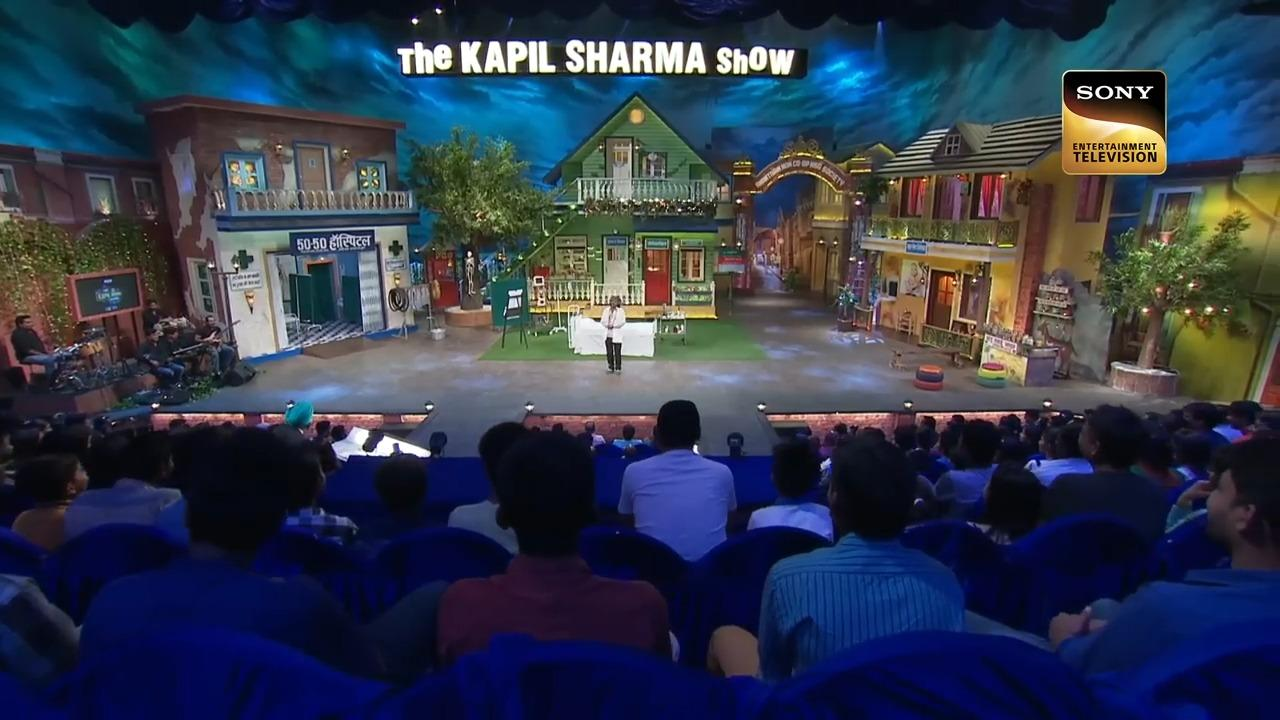Lab_coat: (596, 308, 631, 344)
